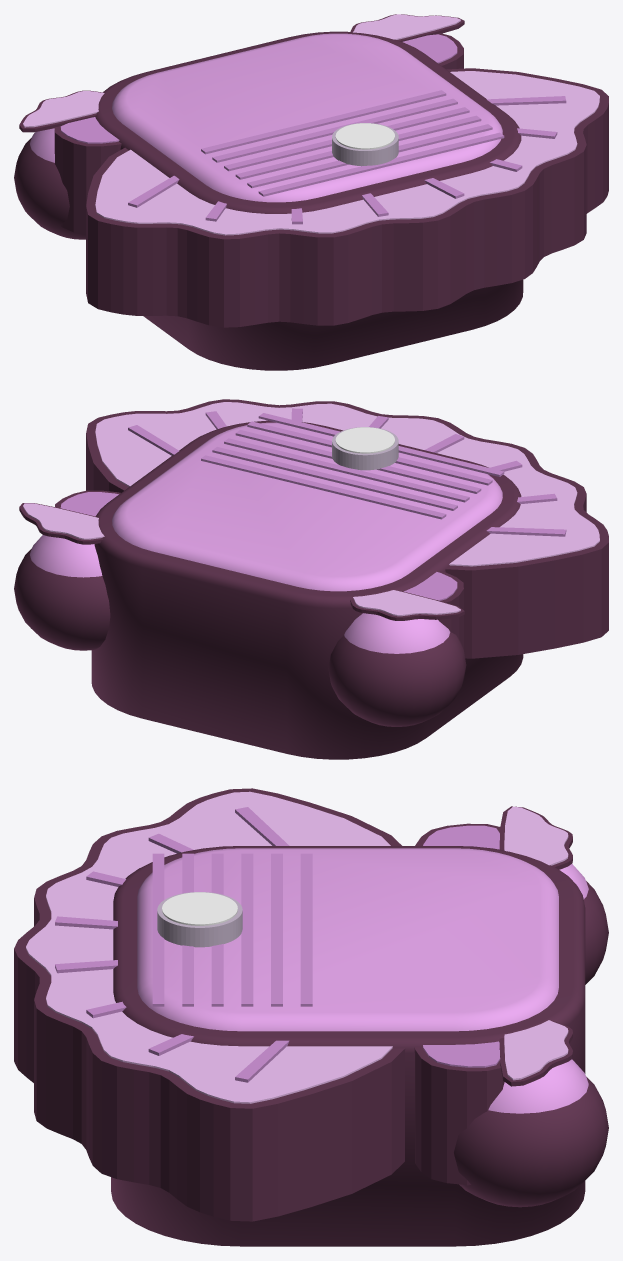
The model's file is body_concha.fbx.
The picture shows the model from 3 angles, top to bottom: view 1: azimuth 30°, elevation 25°; view 2: azimuth 150°, elevation 25°; view 3: azimuth 270°, elevation 25°; orthographic projection. The views are drawn at different scales.
Parts seen in each view (by area): view 1: body_concha_corpo, body_concha_mao_esq, body_concha_mao; view 2: body_concha_corpo, body_concha_mao_esq, body_concha_mao; view 3: body_concha_corpo, body_concha_mao, body_concha_mao_esq.
Boxes of the visible parts, x1,y1,x2,y2 form: body_concha_corpo: [54, 31, 608, 370]; body_concha_mao_esq: [14, 90, 104, 239]; body_concha_mao: [350, 14, 464, 41]; body_concha_corpo: [55, 399, 608, 759]; body_concha_mao_esq: [328, 590, 466, 726]; body_concha_mao: [14, 503, 110, 650]; body_concha_corpo: [14, 788, 585, 1246]; body_concha_mao: [454, 1020, 608, 1207]; body_concha_mao_esq: [499, 806, 608, 984].
Bounding box in the file's own units: 6.39 × 2.22 × 5.02.
Materials: 1 (1 with a texture image).
